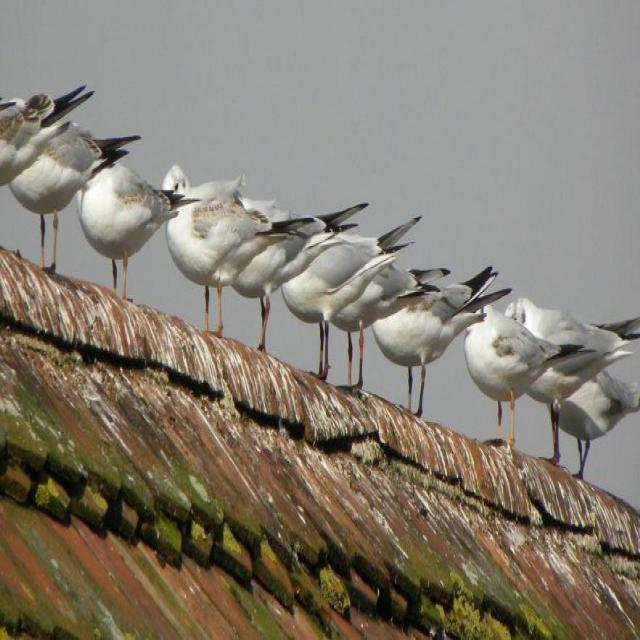bird: (160, 171, 370, 357), (461, 299, 639, 483), (274, 205, 424, 387), (0, 84, 140, 276), (370, 266, 511, 418), (73, 158, 195, 302)
